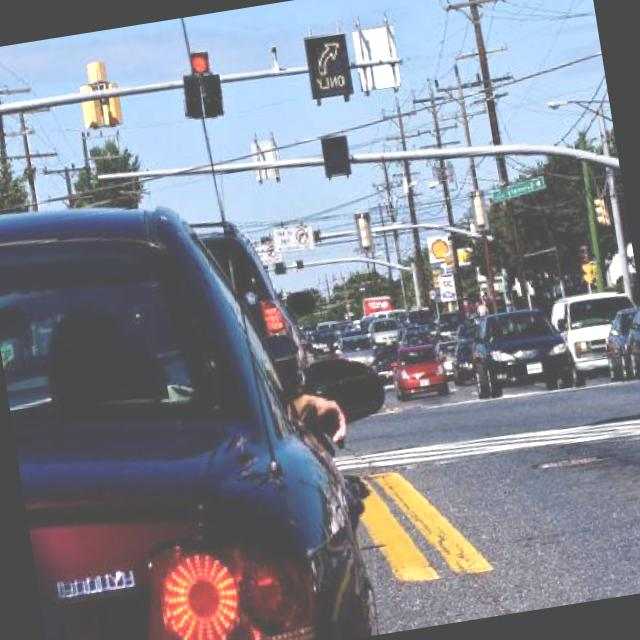Person: (286, 386, 352, 459), (476, 296, 492, 316), (484, 290, 493, 304)
